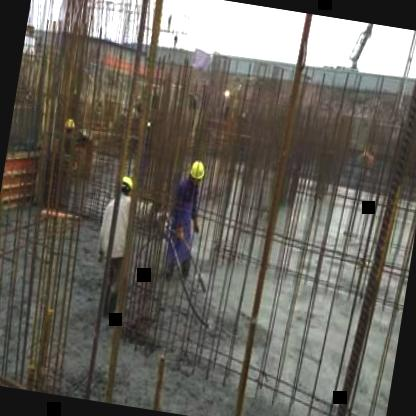helmet: (186, 156, 210, 188), (114, 170, 138, 196), (58, 113, 76, 138)
